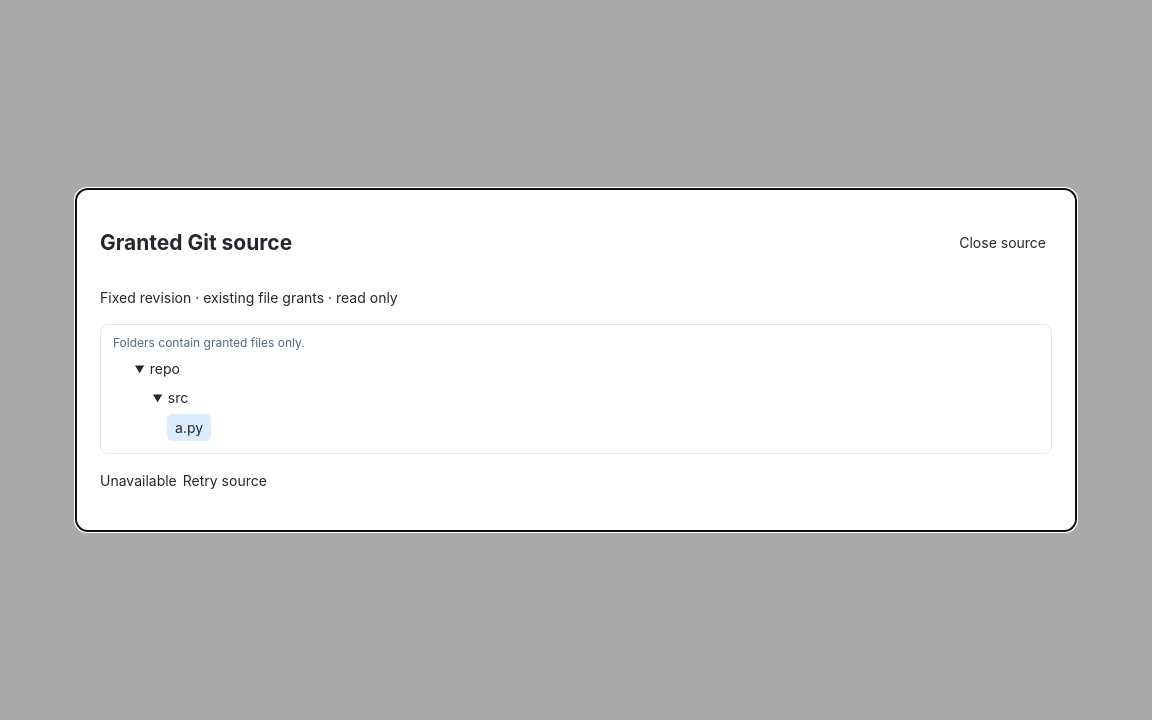
Test: retries source reads and rejects invalid line ranges
The width and height of the screenshot is (1152, 720).
Expected: the message "Unavailable Retry source" is shown, [100,468,273,493]
Step 1. Click the button "Retry source" → [225, 481], box [177,468,273,493]
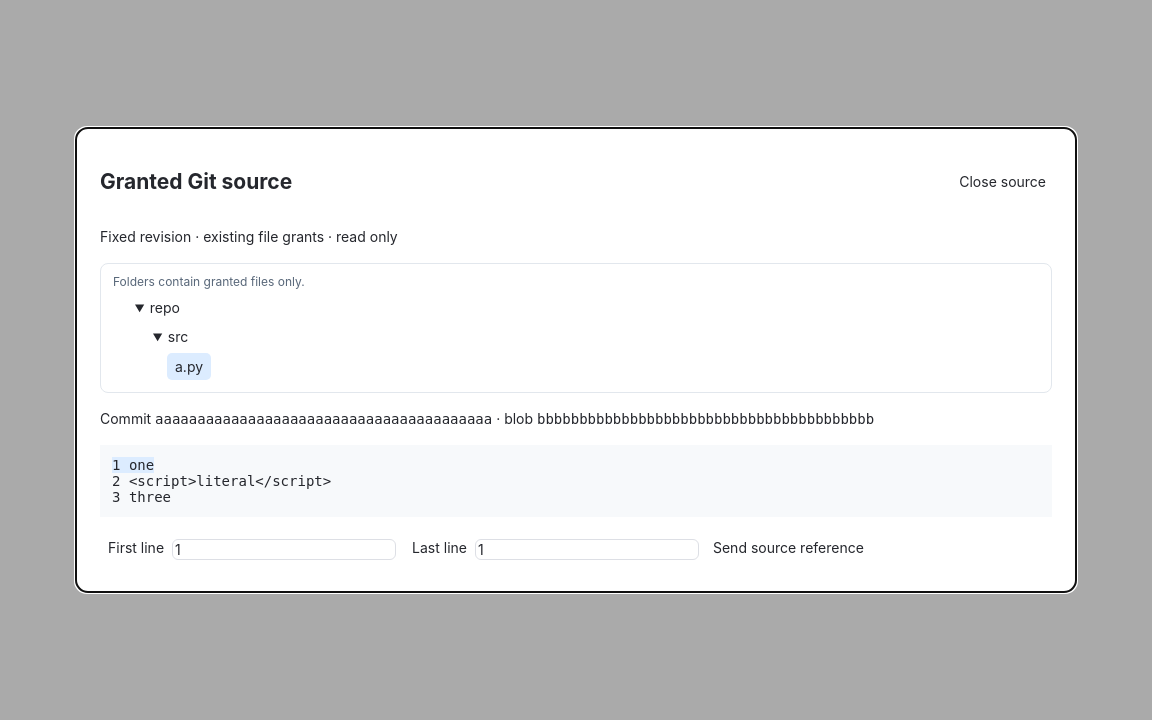
Expected: the text "<script>literal</script>" is shown, [129,473,331,489]
Step 2. Replace the text in the number field labelled "Last line" with "100" → [587, 550], box [475,539,699,560]
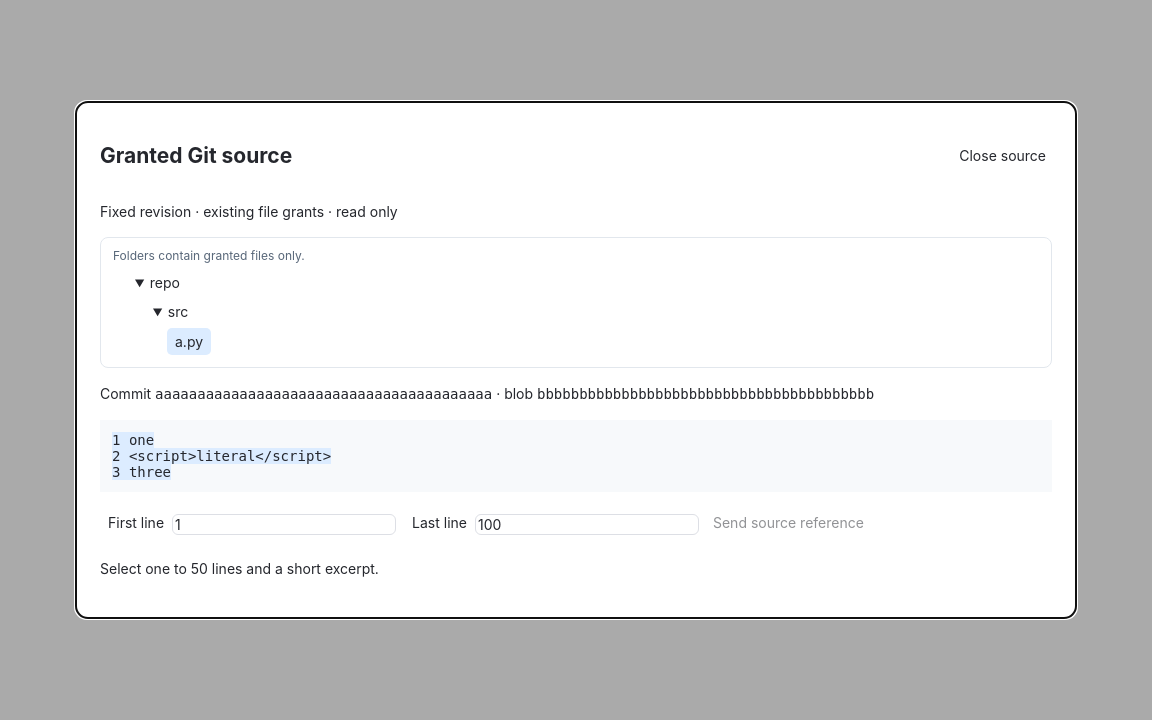
Expected: the button "Send source reference" is disabled, [707,513,870,532]
